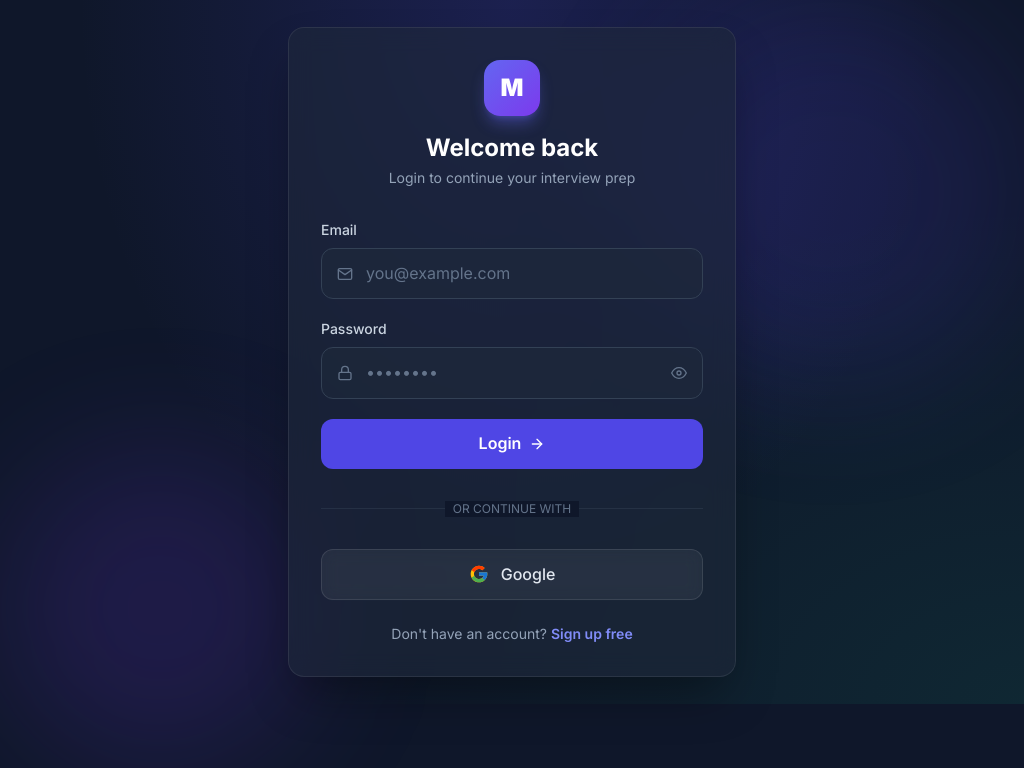
Login Page › shows password error for short password
Type "user@test.com" into the field labelled "Email". click: (512, 274)
box: [321,248,703,299]
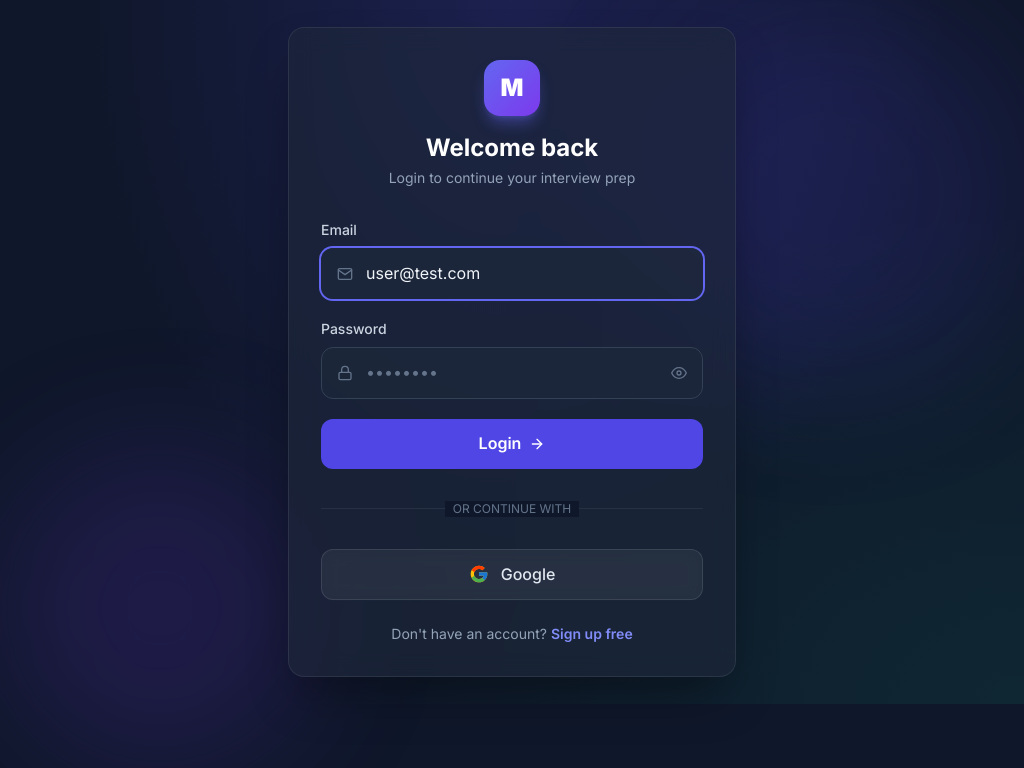
Type "123" into the password field labelled "Password". click: (512, 373)
box: [321,347,703,399]
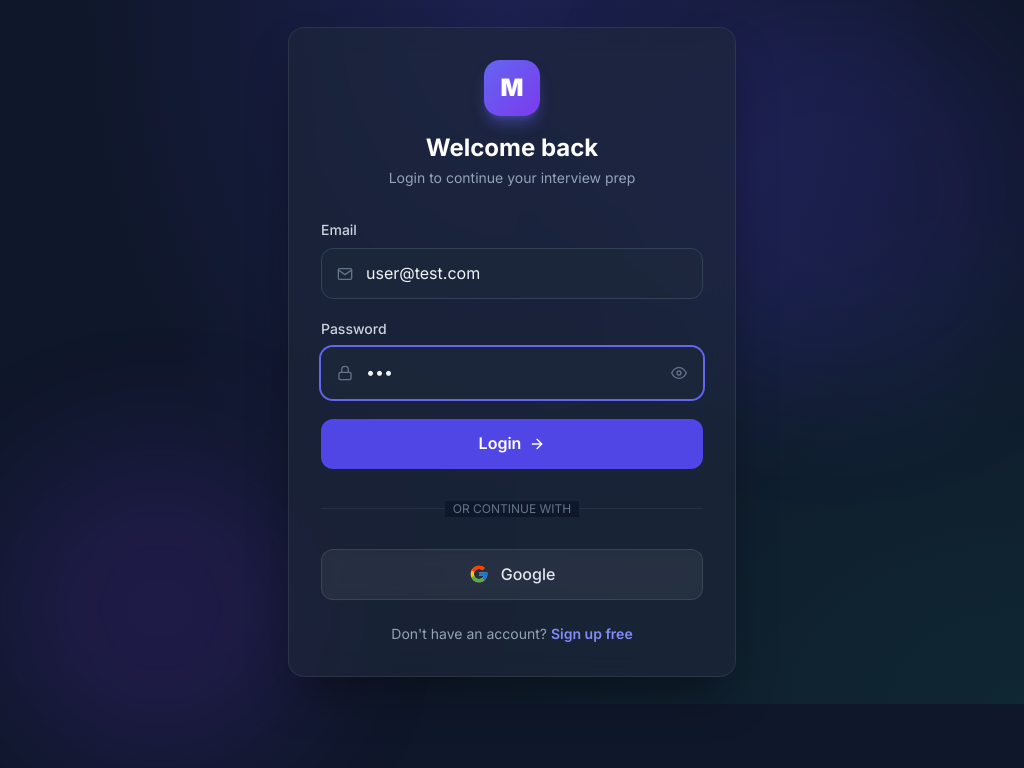
Click the button "Login". click: (512, 444)
box: [321,419,703,469]
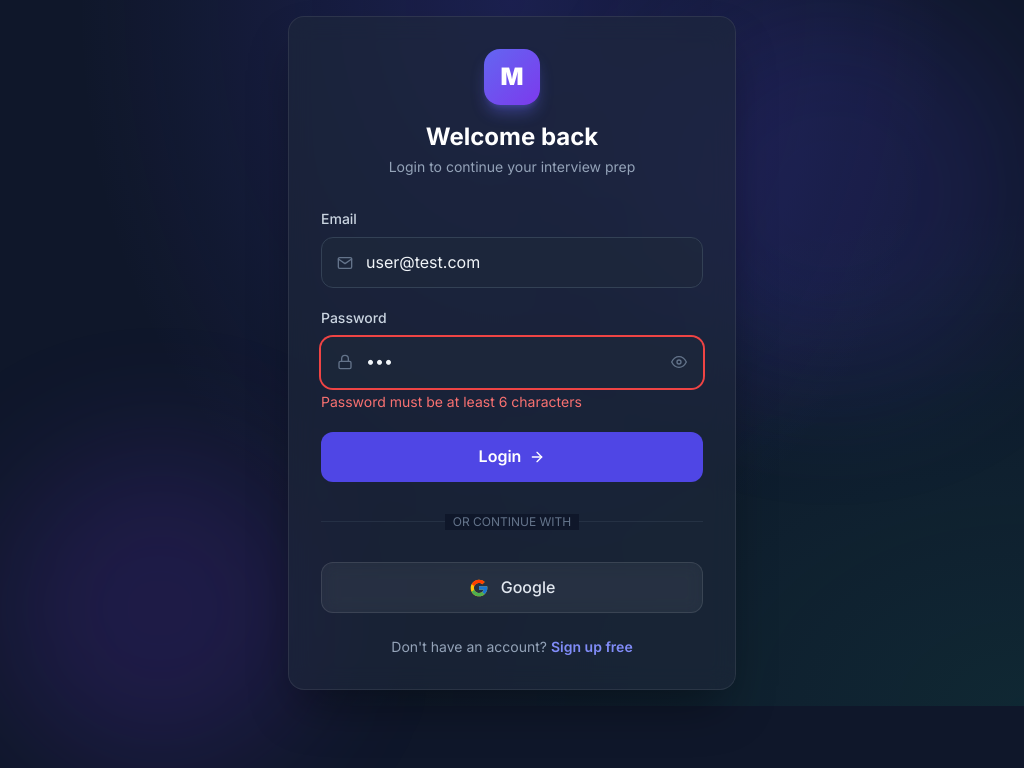
Expected: the text "Password must be at least 6 characters" is shown, [321,393,582,410]
